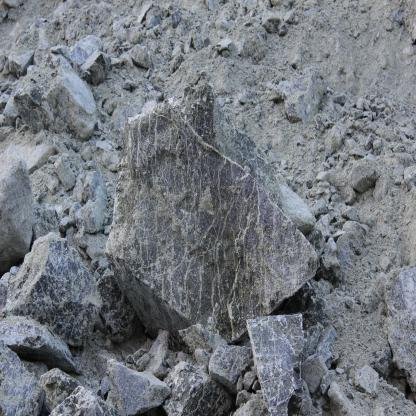stone: (107, 84, 319, 343), (1, 238, 100, 349), (247, 311, 304, 415), (0, 317, 81, 375), (381, 264, 416, 392), (42, 64, 98, 140), (164, 363, 235, 416), (107, 358, 170, 416), (0, 338, 45, 416), (209, 343, 251, 389), (42, 370, 80, 410), (316, 237, 343, 283), (69, 34, 105, 66), (81, 52, 112, 85), (302, 354, 328, 393), (352, 364, 381, 396), (127, 45, 151, 68)
